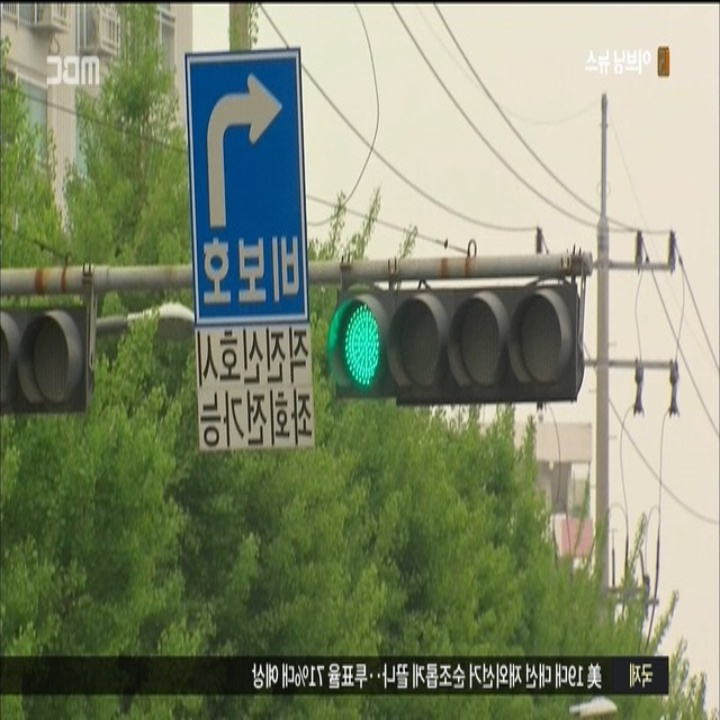right: (204, 67, 282, 228)
